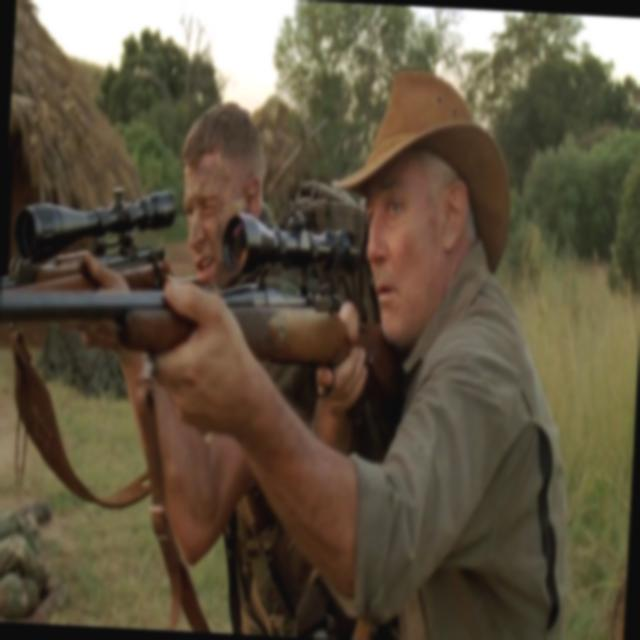rifle: (0, 207, 363, 390), (8, 185, 194, 297)
